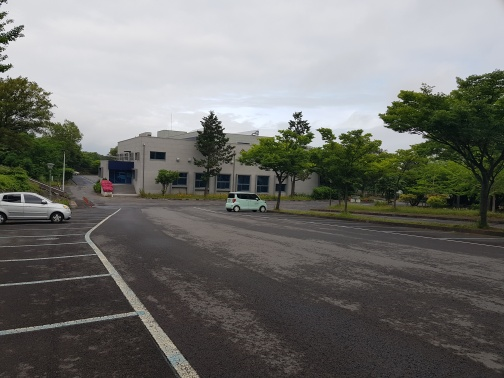College of Social Sciences: (95, 121, 323, 205)
